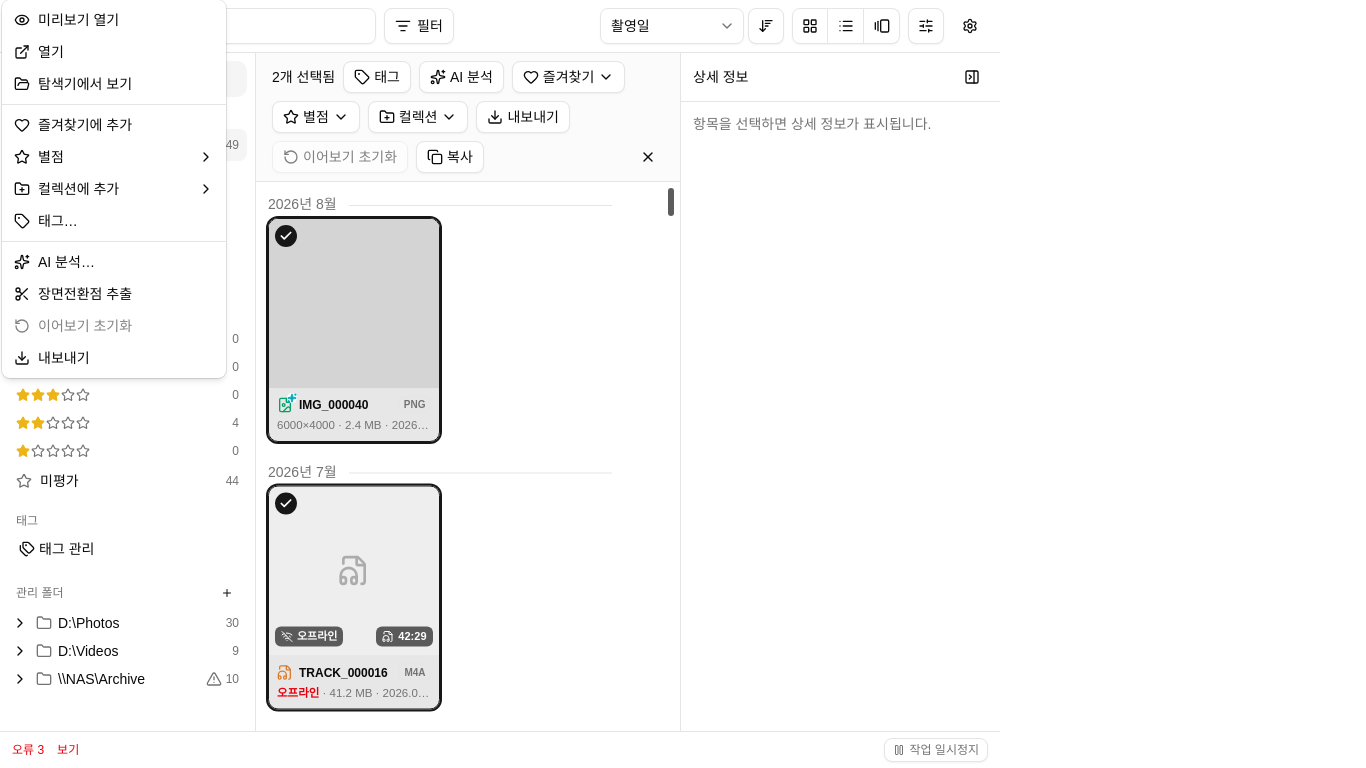
Test: collection membership checks › T-ui-memb-01 [Happy] right-click menu: all = checked, some = mixed, none = unchecked, with the selection size as header
The image size is (1366, 768).
Earlier steps of the test are not shown.
Click the menu item "컬렉션에 추가".
click(114, 189)  # box left=14, top=181, right=214, bottom=197
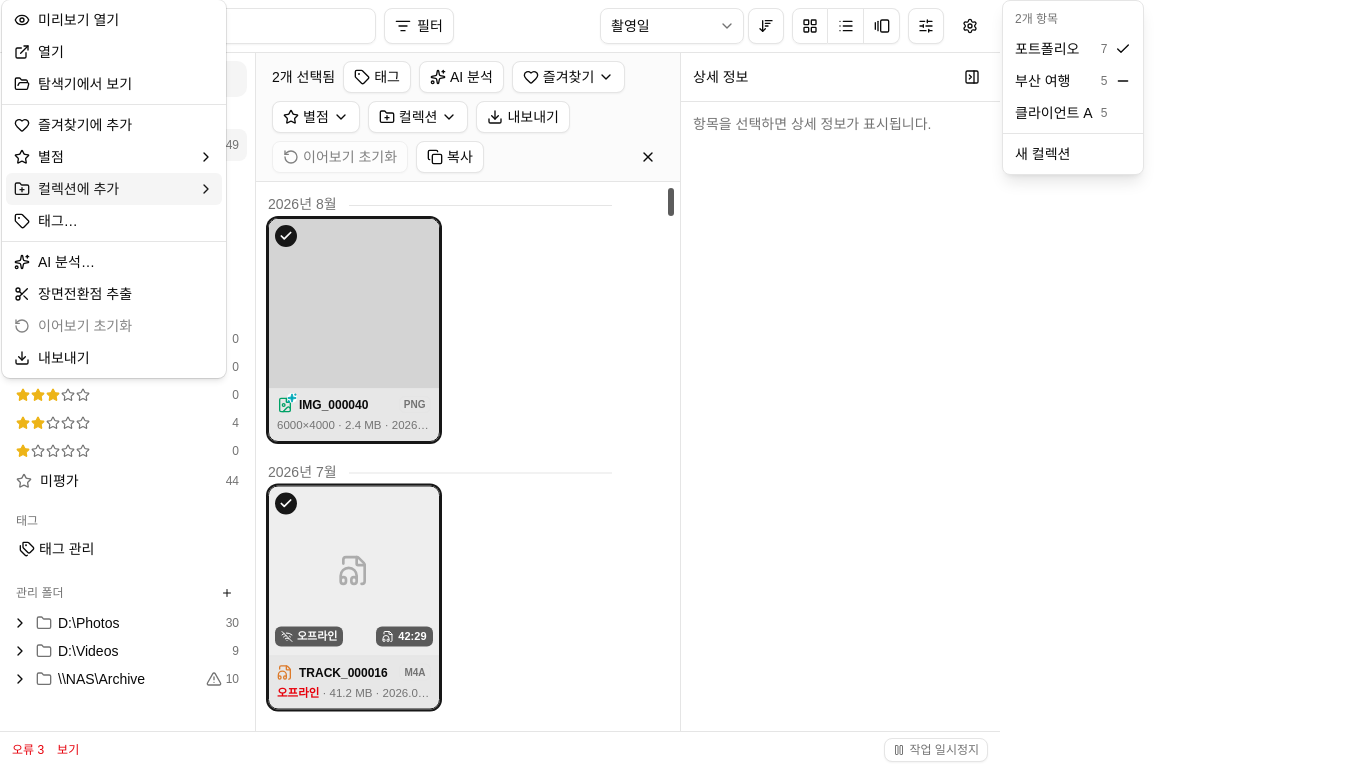
Result: the text "2개 항목" is shown at left=1015, top=12, right=1058, bottom=26
Result: the menu item "새 컬렉션" is shown at left=1015, top=146, right=1070, bottom=162
